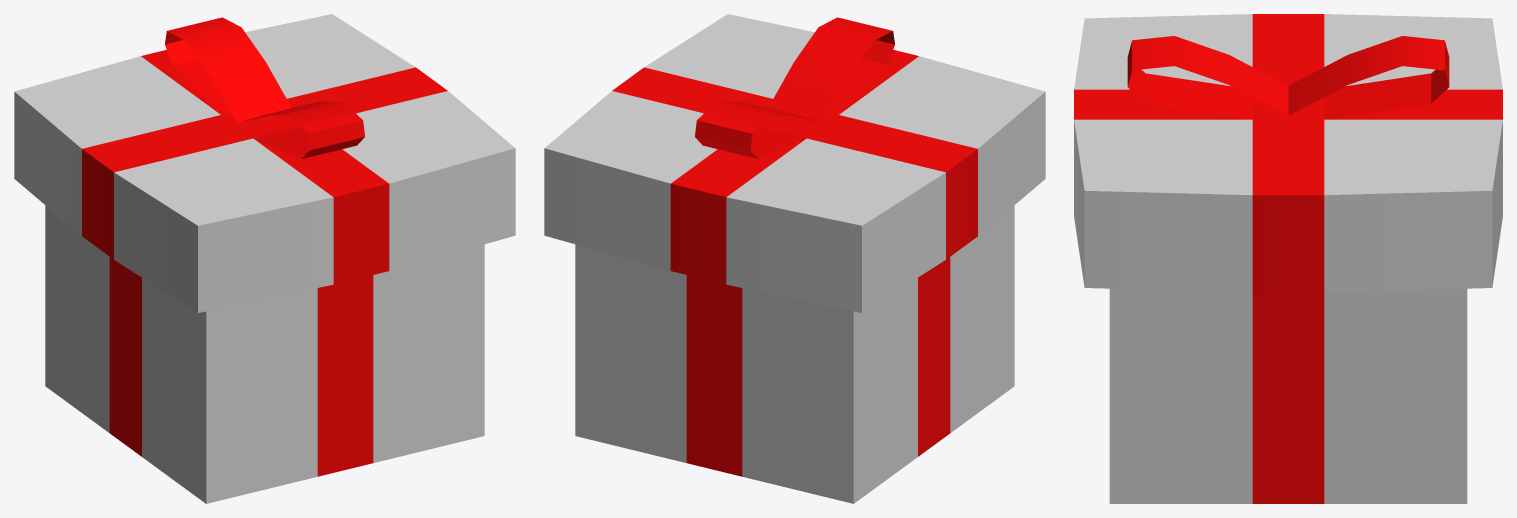
File: present.fbx
3 renders of one model, left to right at view 1: azimuth 30°, elevation 25°; view 2: azimuth 150°, elevation 25°; view 3: azimuth 270°, elevation 25°, orthographic. The views are drawn at different scales.
Parts seen in each view (by area): view 1: Cube; view 2: Cube; view 3: Cube.
Boxes of the visible parts, bbox=[...] form: Cube: bbox=[14, 14, 515, 503]; Cube: bbox=[544, 14, 1045, 503]; Cube: bbox=[1074, 14, 1502, 503].
Bounding box in the file's own units: 240 × 233 × 240.
